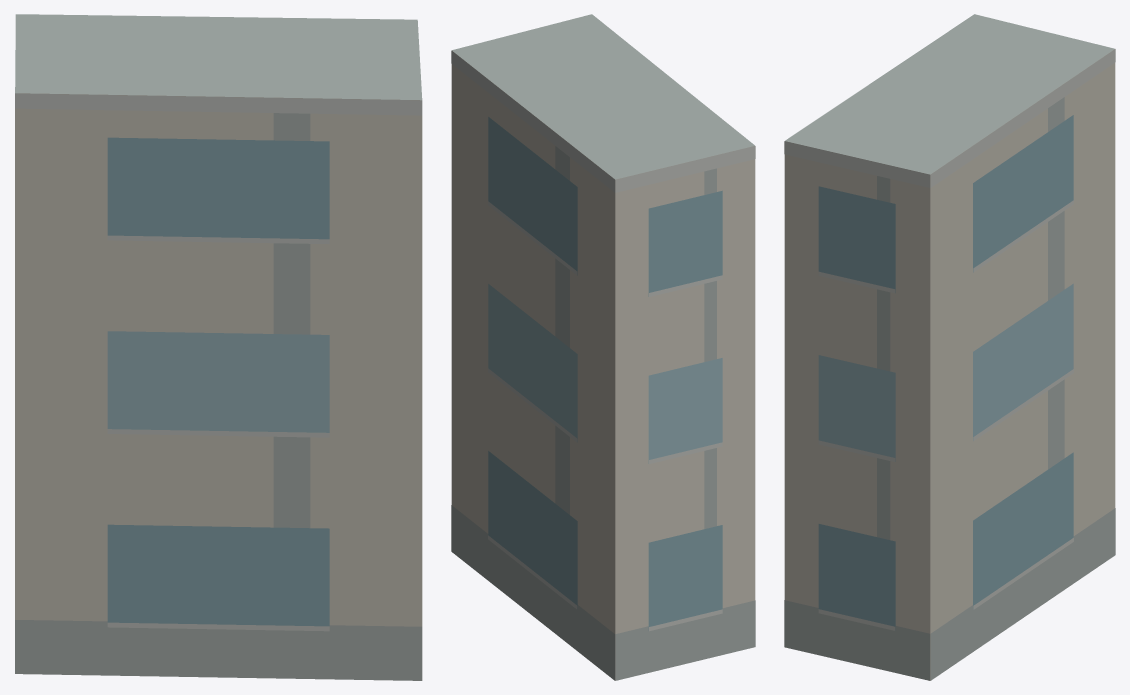
File: survey-upis-32748389.glb
3 views of the same model, side by side, from view 1: azimuth 30°, elevation 25°; view 2: azimuth 150°, elevation 25°; view 3: azimuth 270°, elevation 25° (orthographic). The views are drawn at different scales.
Visible parts, largest first — view 1: survey-upis-32748389.tmp; view 2: survey-upis-32748389.tmp; view 3: survey-upis-32748389.tmp.
Part boxes in pixels (bbox=[...]): survey-upis-32748389.tmp: bbox=[15, 14, 422, 680]; survey-upis-32748389.tmp: bbox=[451, 14, 755, 680]; survey-upis-32748389.tmp: bbox=[784, 14, 1115, 680].
Bounding box in the file's own units: 6.23 × 9.15 × 5.43.
